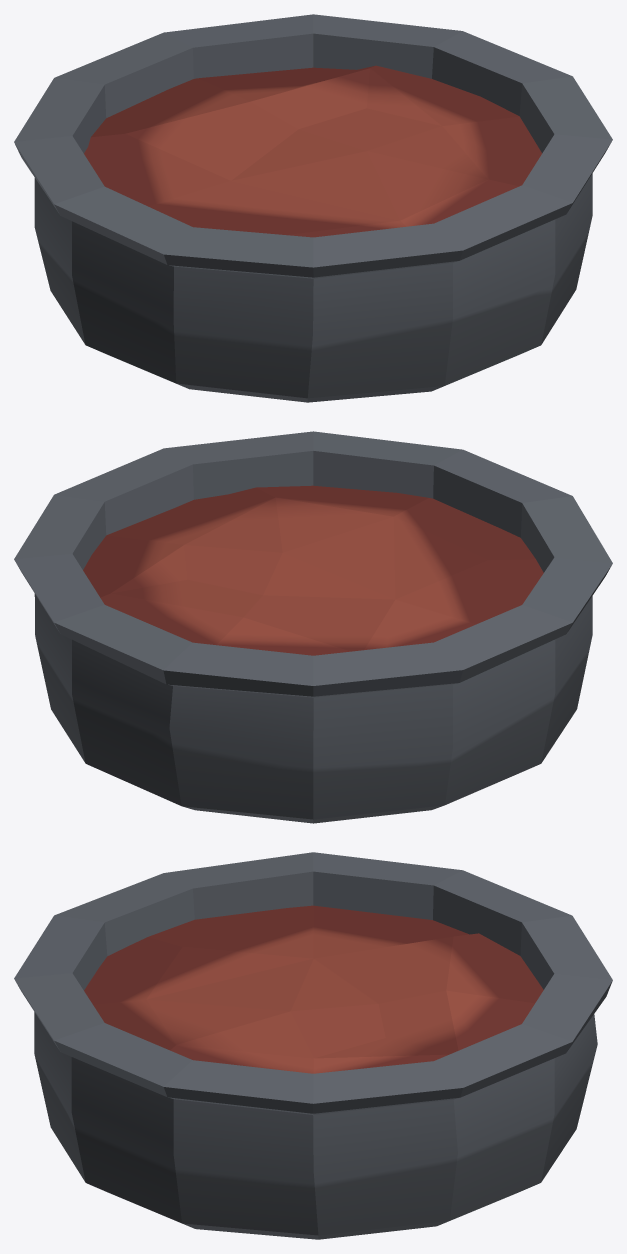
Rendered from SM_Prop_Pot_Large_02.fbx.
The picture shows the model from 3 angles, top to bottom: view 1: azimuth 30°, elevation 25°; view 2: azimuth 150°, elevation 25°; view 3: azimuth 270°, elevation 25°; orthographic projection.
Visible parts, largest first — view 1: SM_Prop_Pot_Large_02, SM_Prop_Pot_Large_Soup_02; view 2: SM_Prop_Pot_Large_02, SM_Prop_Pot_Large_Soup_02; view 3: SM_Prop_Pot_Large_02, SM_Prop_Pot_Large_Soup_02.
Part boxes in pixels (x1,y1,x2,y2): SM_Prop_Pot_Large_02: (14,14,612,402); SM_Prop_Pot_Large_Soup_02: (84,65,541,237); SM_Prop_Pot_Large_02: (14,431,612,823); SM_Prop_Pot_Large_Soup_02: (83,485,543,655); SM_Prop_Pot_Large_02: (14,852,612,1239); SM_Prop_Pot_Large_Soup_02: (84,905,543,1073).
Bounding box in the file's own units: 135 × 42.54 × 135.
